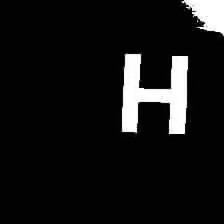LTR_H: (110, 47, 196, 140)
